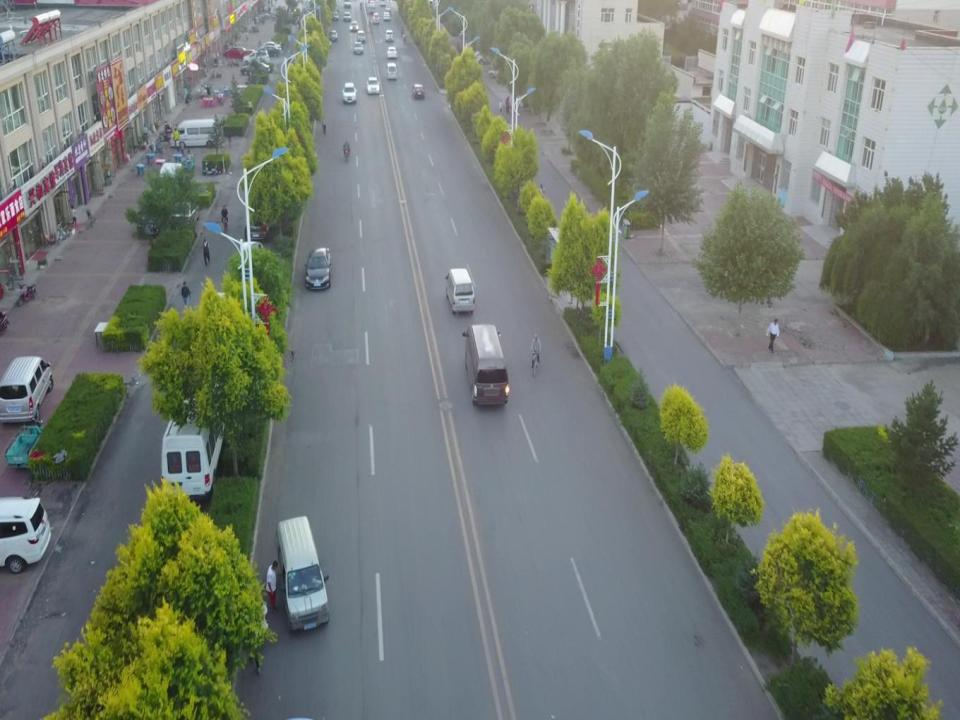car: (0, 498, 48, 575), (306, 248, 331, 292), (172, 197, 200, 232), (135, 204, 160, 232), (241, 63, 270, 78), (223, 45, 251, 59), (253, 41, 281, 54), (244, 51, 271, 64), (366, 75, 382, 95), (341, 82, 356, 102), (473, 51, 493, 65), (488, 65, 507, 79), (412, 82, 426, 100), (460, 28, 474, 40), (352, 42, 364, 54), (328, 30, 340, 42), (388, 46, 398, 58), (330, 10, 339, 22), (342, 12, 350, 24), (350, 21, 358, 28)
van: (160, 384, 227, 497), (276, 512, 329, 628), (463, 324, 510, 404), (0, 356, 54, 421), (172, 118, 222, 148), (445, 268, 475, 314), (386, 62, 398, 79), (386, 28, 394, 42)
